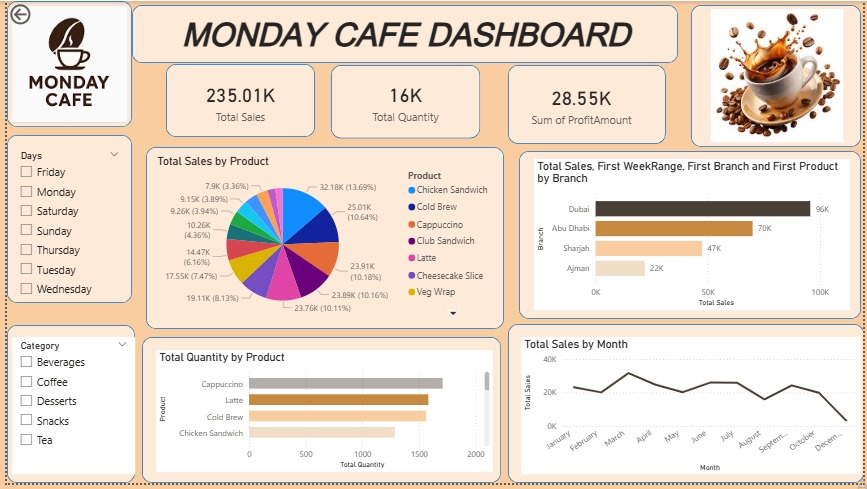

The page's visual inventory and layout, read from the dashboard file:
{"tool":"powerbi","page":{"name":"Page 1","canvas":[1280,720],"ordinal":0},"visuals":[{"type":"shape","box":[0,0,186.7,188.2],"z":0},{"type":"image","box":[7.5,6,171.8,177.8],"z":1000},{"type":"shape","box":[237.5,94.1,222.6,109],"z":2000},{"type":"shape","box":[1021.7,6,253.9,212.1],"z":3000},{"type":"shape","box":[749,95.2,235.7,117.8],"z":4000},{"type":"shape","box":[484.2,95.2,222.7,109.8],"z":5000},{"type":"shape","box":[186.7,6,815.6,86.6],"z":6000},{"type":"textbox","box":[189.7,12,812.6,83.7],"z":7000},{"type":"card","fields":{"Values":["Sales.Total Sales"]},"box":[256.9,104.6,183.7,88.1],"z":8000},{"type":"card","fields":{"Values":["Sales.Total Quantity"]},"box":[484,95.6,222.6,107.6],"z":9000},{"type":"card","fields":{"Values":["Sum(Sales.ProfitAmount)"]},"box":[705.1,80.7,306.2,146.4],"z":10000},{"type":"shape","box":[748.4,482.5,531.8,237.5],"z":11000},{"type":"shape","box":[201.7,501.9,536.3,218.1],"z":12000},{"type":"shape","box":[764.8,224.1,510.9,251],"z":13000},{"type":"shape","box":[207.6,218.1,534.8,271.9],"z":14000},{"type":"image","box":[1020.2,12,259.9,198.7],"z":15000},{"type":"pieChart","fields":{"Category":["Sales.Product"],"Y":["Sales.Total Sales"]},"box":[219.6,228.5,518.3,251],"z":16000},{"type":"lineChart","fields":{"Y":["Sales.Total Sales"],"Category":["WeekTable.WeekStart.Variation.Date Hierarchy.Month"]},"box":[768.3,502,506.8,205],"z":17000},{"type":"shape","box":[0,484,191.2,236],"z":18000},{"type":"shape","box":[0,200.2,186.7,251],"z":19000},{"type":"barChart","fields":{"Category":["Sales.Branch"],"Y":["Sales.Total Sales"]},"box":[787.2,236,472,225.6],"z":20000},{"type":"clusteredBarChart","fields":{"Y":["Sales.Total Quantity"],"Category":["Sales.Product"]},"box":[222.6,521.3,503.4,182.2],"z":21000},{"type":"slicer","fields":{"Values":["WeekTable.Day_name"]},"box":[7.5,218.1,171.8,233],"z":22000},{"type":"actionButton","box":[0,0,100,40],"z":23000},{"type":"slicer","fields":{"Values":["Sales.Category"]},"box":[7.5,501.9,183.7,204.6],"z":24000}]}

Visuals, with their boxes in screenshot pixels (x1, y1, x2, y2), scaled from the page's 1280x720 canvas onto the 867x489 screenshot:
shape: [left=0, top=0, right=126, bottom=128]
image: [left=5, top=4, right=121, bottom=125]
shape: [left=161, top=64, right=312, bottom=138]
shape: [left=692, top=4, right=864, bottom=148]
shape: [left=507, top=65, right=667, bottom=145]
shape: [left=328, top=65, right=479, bottom=139]
shape: [left=126, top=4, right=679, bottom=63]
textbox: [left=128, top=8, right=679, bottom=65]
card - Sales.Total Sales: [left=174, top=71, right=298, bottom=131]
card - Sales.Total Quantity: [left=328, top=65, right=479, bottom=138]
card - Sum(Sales.ProfitAmount): [left=478, top=55, right=685, bottom=154]
shape: [left=507, top=328, right=866, bottom=488]
shape: [left=137, top=341, right=500, bottom=488]
shape: [left=518, top=152, right=864, bottom=323]
shape: [left=141, top=148, right=503, bottom=333]
image: [left=691, top=8, right=866, bottom=143]
pieChart - Sales.Product x Sales.Total Sales: [left=149, top=155, right=500, bottom=326]
lineChart - Sales.Total Sales x WeekTable.WeekStart.Variation.Date Hierarchy.Month: [left=520, top=341, right=864, bottom=480]
shape: [left=0, top=329, right=130, bottom=488]
shape: [left=0, top=136, right=126, bottom=306]
barChart - Sales.Branch x Sales.Total Sales: [left=533, top=160, right=853, bottom=314]
clusteredBarChart - Sales.Total Quantity x Sales.Product: [left=151, top=354, right=492, bottom=478]
slicer - WeekTable.Day_name: [left=5, top=148, right=121, bottom=306]
actionButton: [left=0, top=0, right=68, bottom=27]
slicer - Sales.Category: [left=5, top=341, right=130, bottom=480]
